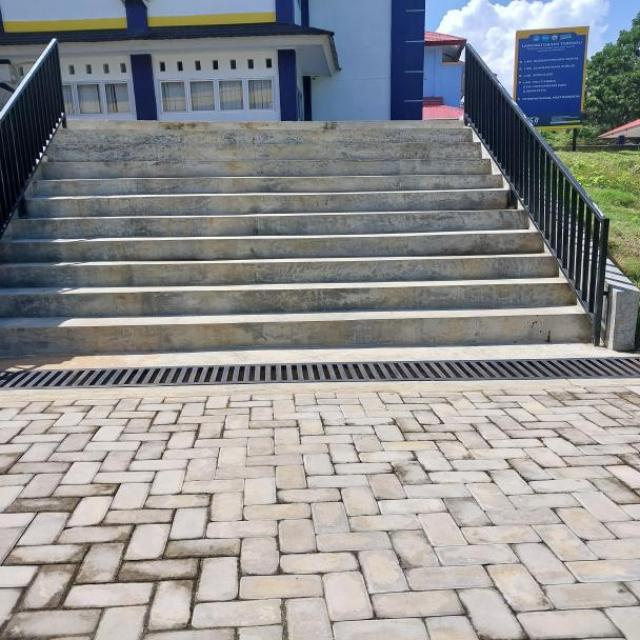stairs ahead at: (3, 119, 593, 346)
